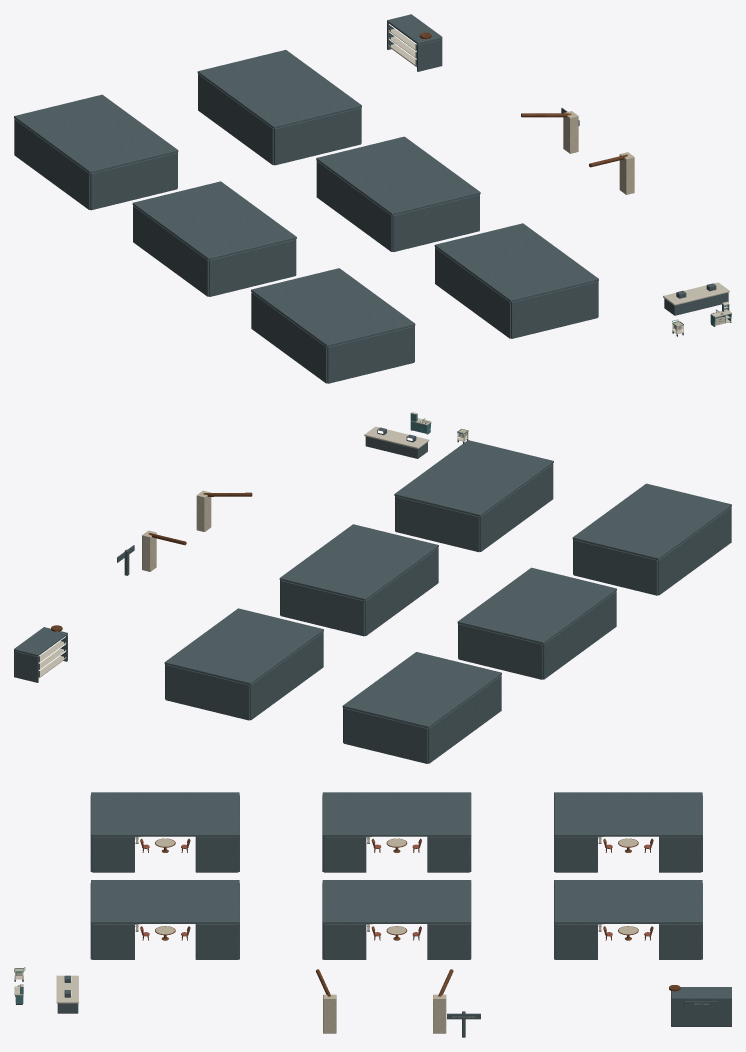
The model's file is SOL_D05_directory_07_source001.glb.
3 views of the same model, one above another, from view 1: azimuth 30°, elevation 25°; view 2: azimuth 150°, elevation 25°; view 3: azimuth 270°, elevation 25° (orthographic). The views are drawn at different scales.
Parts seen in each view (by area): view 1: C_pod_roof0_1, C_pod_roof1_1, C_pod_roof2_0, C_pod_roof2_1, C_pod_roof1_0, C_pod_roof0_0, C_pod_south2_1, C_pod_south0_1, C_pod_south1_0, C_pod_south0_0, C_pod_south1_1, C_pod_south2_0 (+12 smaller); view 2: C_pod_roof1_0, C_pod_roof1_1, C_pod_roof2_0, C_pod_roof2_1, C_pod_roof0_0, C_pod_roof0_1, C_pod_north1_0, C_pod_north2_0, C_pod_north0_0, C_pod_north0_1, C_pod_north1_1, C_pod_north2_1 (+11 smaller); view 3: C_pod_roof1_1, C_pod_roof0_1, C_pod_roof2_1, C_pod_roof1_0, C_pod_roof0_0, C_pod_roof2_0, C_care_back, C_pod_entry_return1_1_1, C_pod_entry_return2_1_0, C_pod_entry_return0_1_0, C_pod_entry_return0_1_1, C_pod_entry_return1_1_0 (+11 smaller).
Part boxes in pixels (x1,y1,x2,y2): C_pod_roof0_1: (14,94,178,173); C_pod_roof1_1: (132,181,296,260); C_pod_roof2_0: (434,223,598,302); C_pod_roof2_1: (251,268,415,346); C_pod_roof1_0: (316,136,480,215); C_pod_roof0_0: (197,50,361,128); C_pod_south2_1: (327,326,414,383); C_pod_south0_1: (90,152,177,210); C_pod_south1_0: (392,194,479,251); C_pod_south0_0: (274,107,360,165); C_pod_south1_1: (209,239,295,296); C_pod_south2_0: (511,281,597,338); C_pod_roof1_0: (279,524,438,600); C_pod_roof1_1: (457,567,616,644); C_pod_roof2_0: (394,440,553,516); C_pod_roof2_1: (572,483,731,560); C_pod_roof0_0: (164,608,323,684); C_pod_roof0_1: (342,652,501,728); C_pod_north1_0: (280,580,364,636); C_pod_north2_0: (395,496,479,552); C_pod_north0_0: (165,664,249,720); C_pod_north0_1: (343,708,427,763); C_pod_north1_1: (458,624,542,679); C_pod_north2_1: (573,540,657,595); C_pod_roof1_1: (322,792,471,836); C_pod_roof0_1: (554,792,702,836); C_pod_roof2_1: (91,792,239,836); C_pod_roof1_0: (322,880,471,923); C_pod_roof0_0: (554,880,702,923); C_pod_roof2_0: (91,880,239,923); C_care_back: (671,997,731,1026); C_pod_entry_return1_1_1: (323,836,366,872); C_pod_entry_return2_1_0: (195,836,238,872); C_pod_entry_return0_1_0: (659,836,701,872); C_pod_entry_return0_1_1: (555,836,597,872); C_pod_entry_return1_1_0: (427,836,469,872).
Size of the model in its own units: 40.28 by 3.81 by 58.92.
28 materials, 27 textured.
